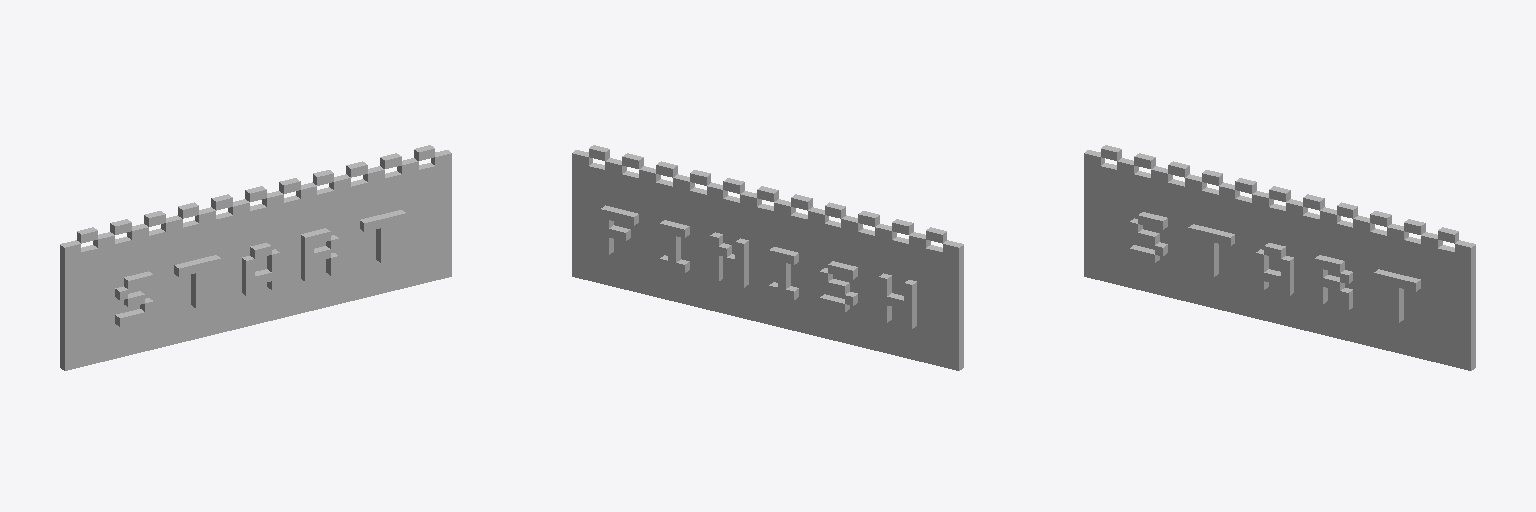
File: jordanstartfinishline.obj
The picture shows the model from 3 angles: view 1: azimuth 30°, elevation 25°; view 2: azimuth 150°, elevation 25°; view 3: azimuth 330°, elevation 25°; orthographic projection.
Visible parts, largest first — view 1: jordanstartfinishline; view 2: jordanstartfinishline; view 3: jordanstartfinishline.
Boxes of the visible parts, <box> form: jordanstartfinishline: <box>60,145,451,370</box>; jordanstartfinishline: <box>572,145,963,370</box>; jordanstartfinishline: <box>1084,145,1475,370</box>.
Size of the model in its own units: 46 by 15 by 3.